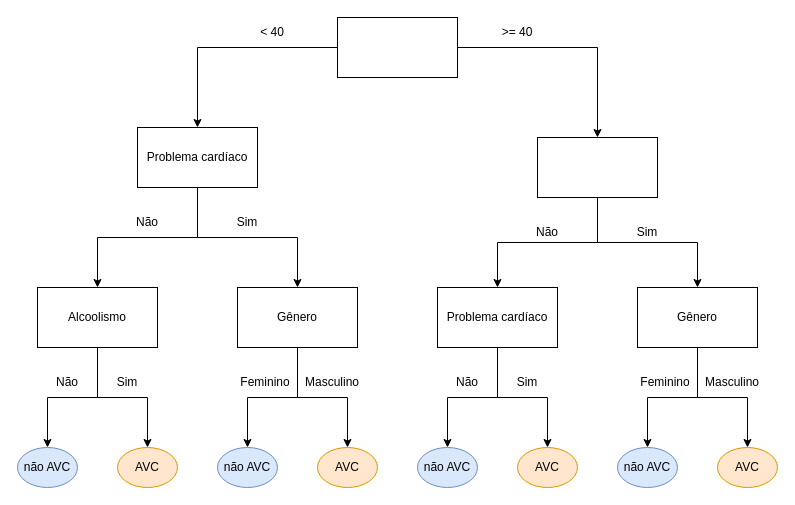
Image size: 795x505. Some labels were removed from this diagram. The shapes that lost their labels are listed below. From the top down, each one's centre as x and y in pixels, then its label:
the point at 397,47: Idade
the point at 597,167: Tabagismo
